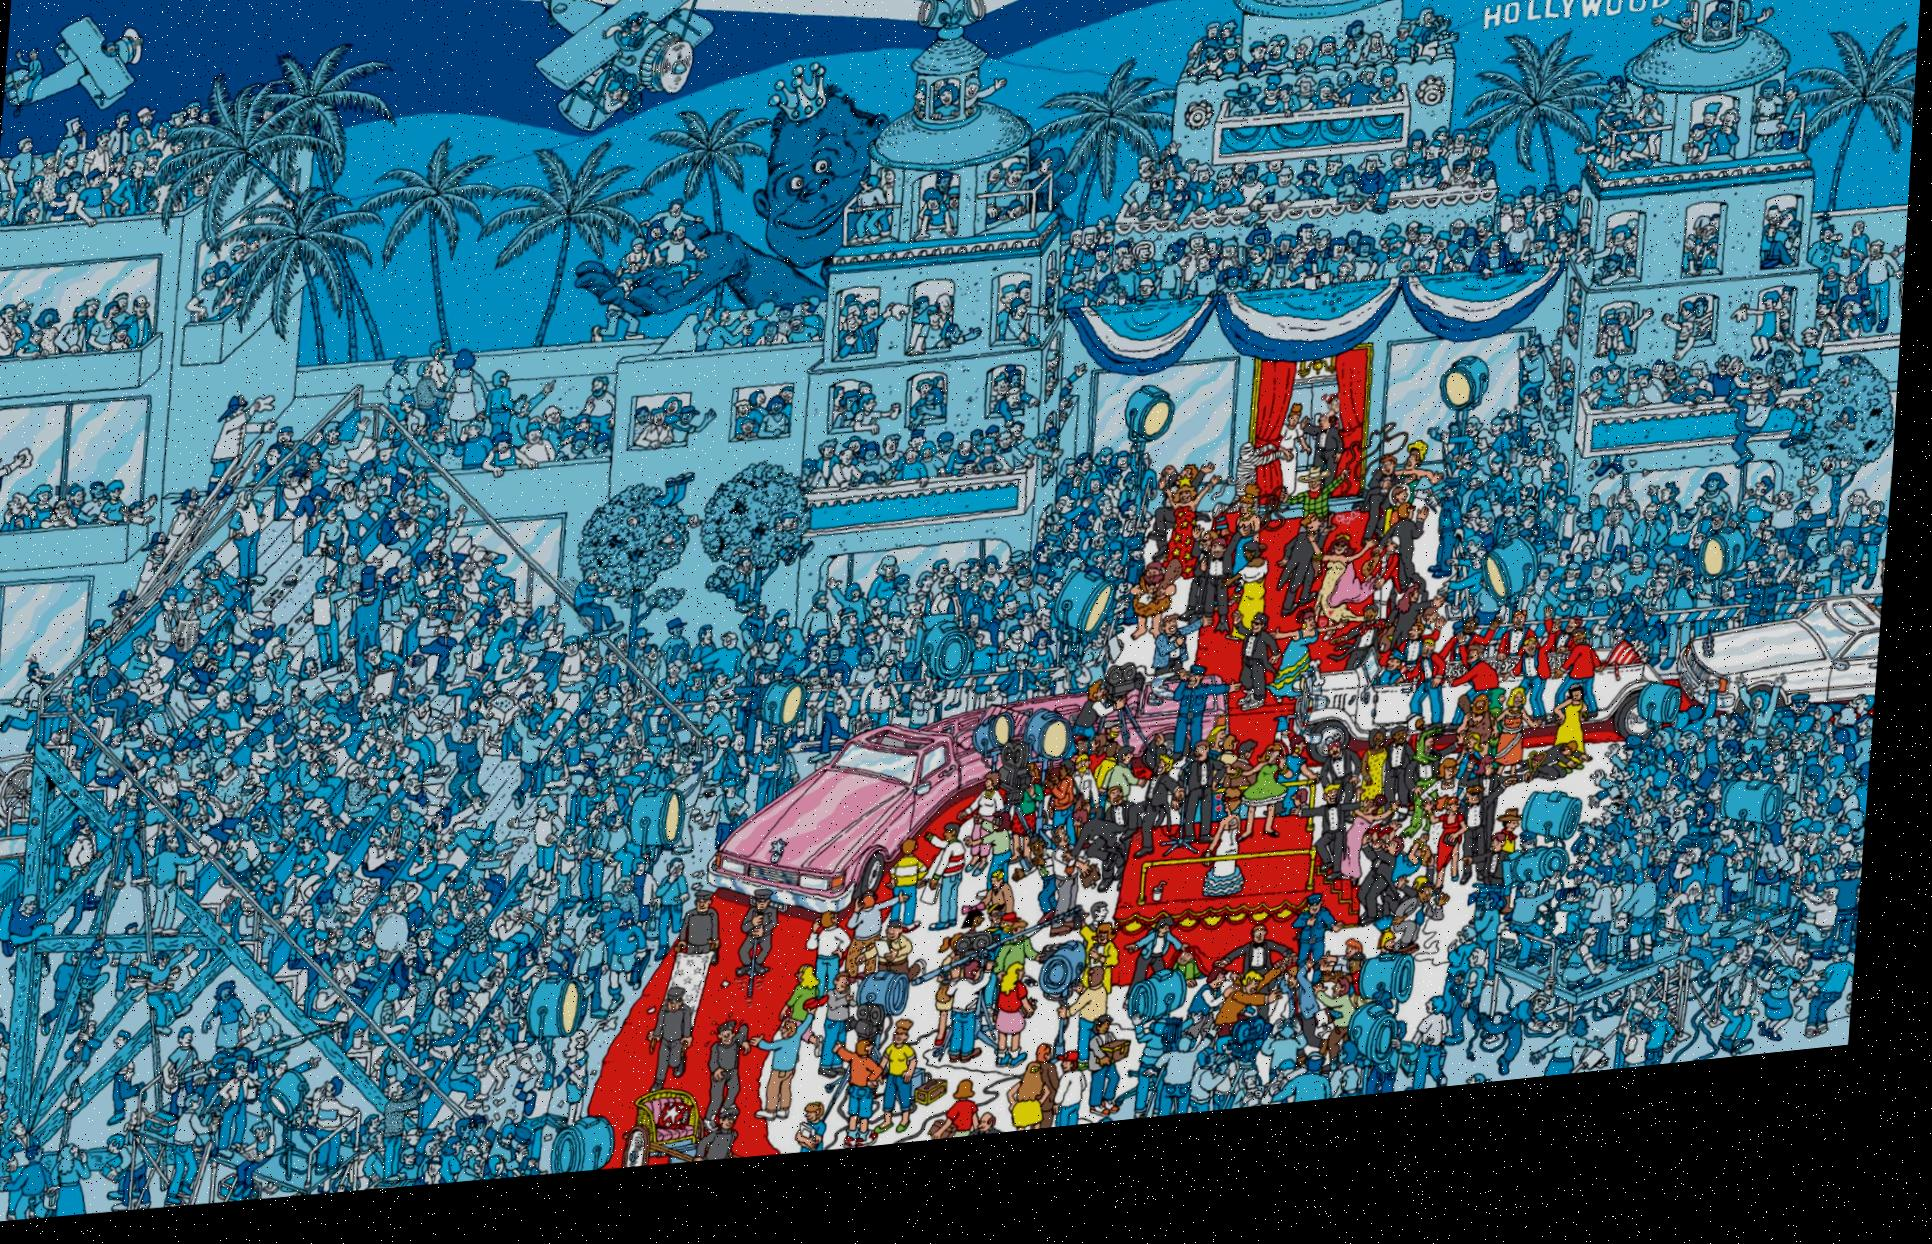waldo: (1326, 423, 1348, 447)
